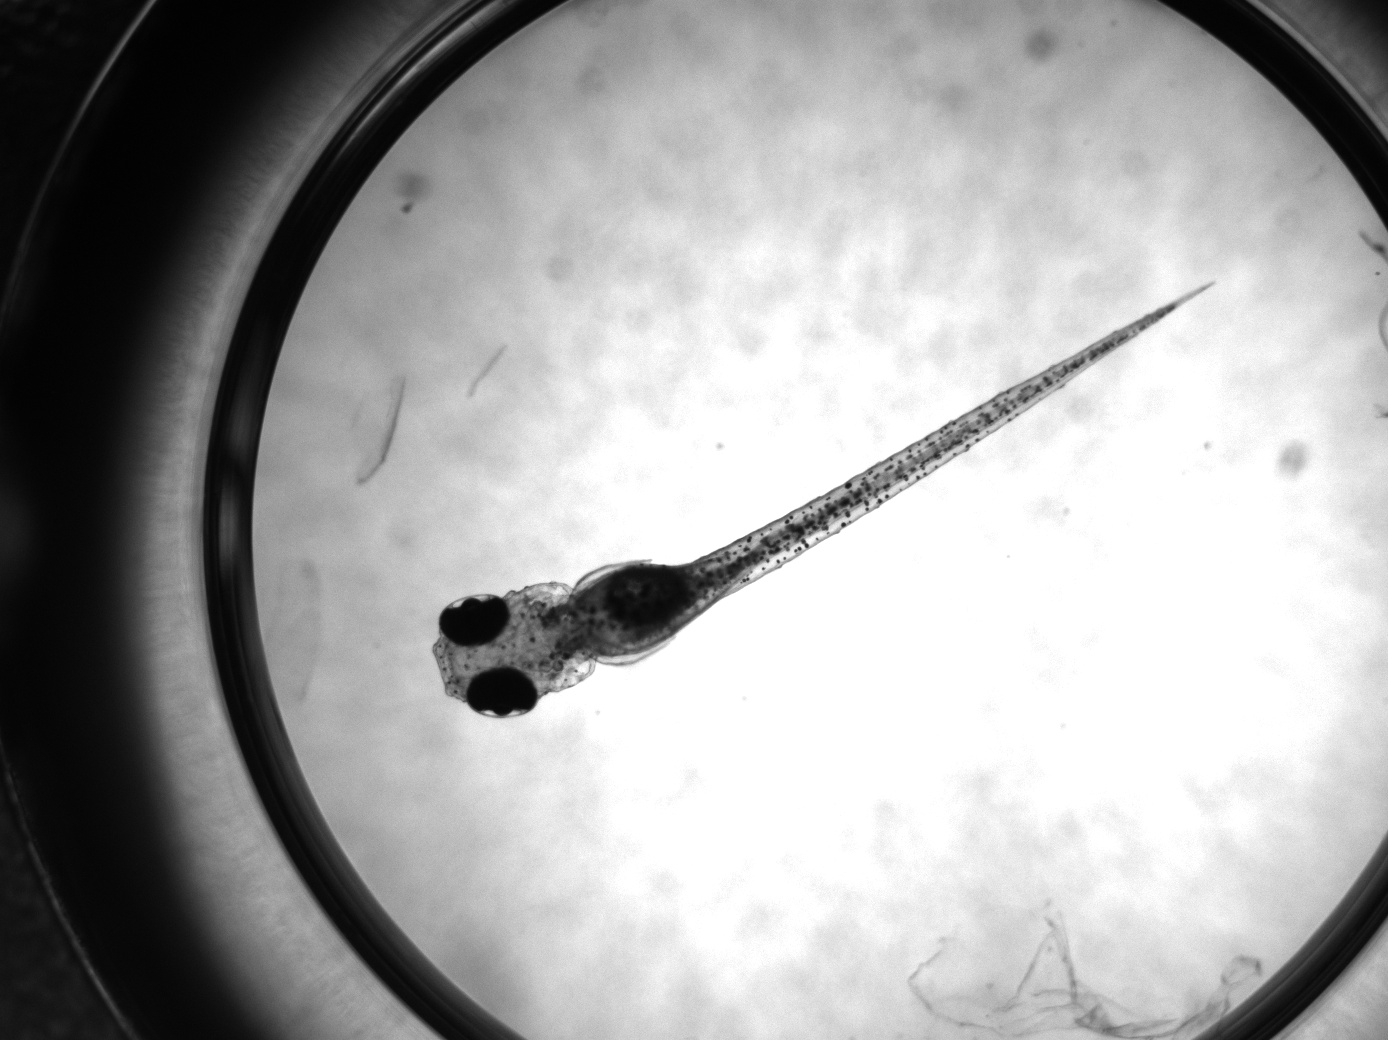debris: (909, 897, 1266, 1040)
embryo: (432, 279, 1219, 720)
eye: (466, 667, 539, 719), (438, 594, 511, 645)
yolksac: (561, 563, 721, 659)
